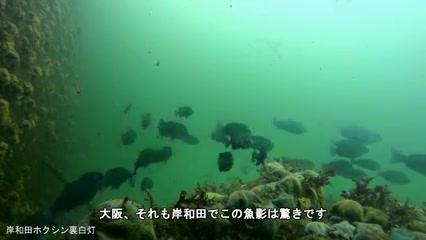smallfish: (172, 101, 197, 121)
